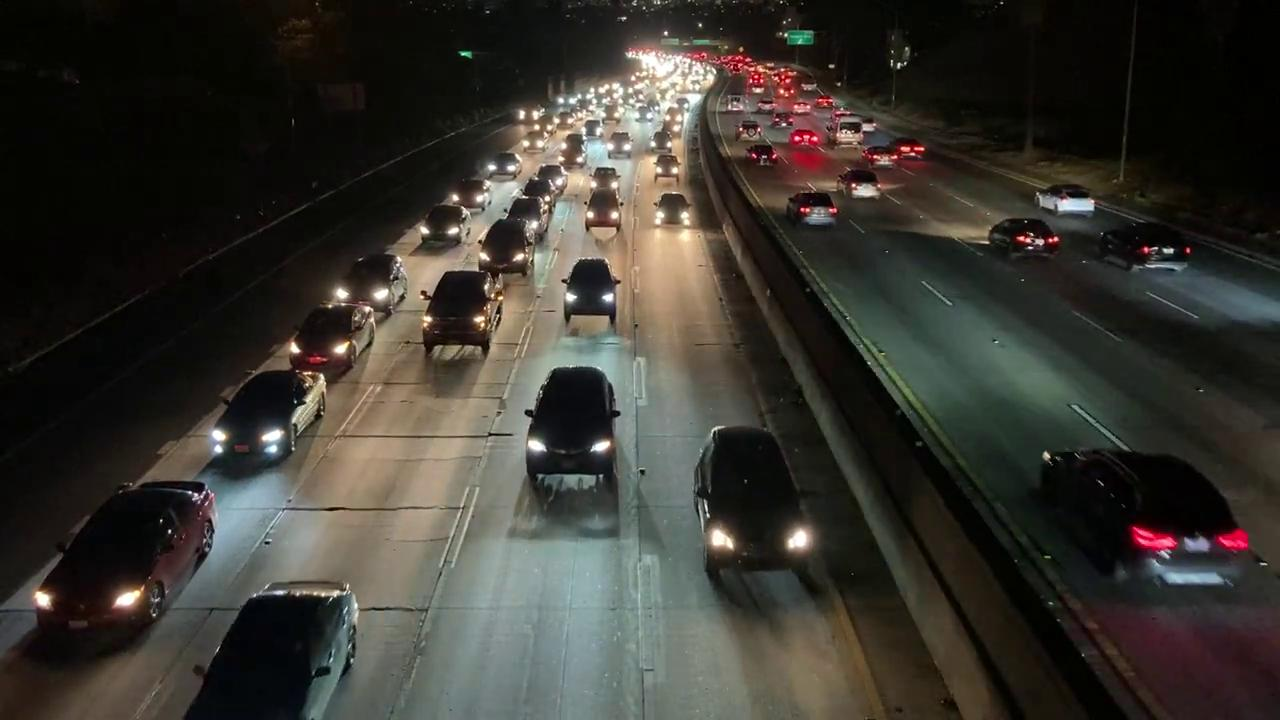bus: (825, 111, 865, 150)
car: (1040, 432, 1258, 596), (26, 482, 208, 634), (180, 578, 364, 714), (692, 422, 818, 586), (198, 364, 338, 474), (522, 358, 628, 492), (1093, 211, 1198, 275), (289, 304, 376, 378), (421, 270, 495, 352), (556, 256, 628, 336), (339, 253, 412, 311), (478, 221, 538, 280), (419, 197, 471, 250), (990, 218, 1059, 257), (583, 189, 629, 237), (1033, 184, 1093, 215), (504, 196, 557, 231), (789, 195, 839, 228), (656, 189, 692, 231), (453, 176, 495, 211), (835, 169, 879, 198), (486, 150, 530, 176), (584, 166, 627, 192), (650, 154, 684, 184), (893, 134, 927, 164), (748, 143, 785, 169), (562, 141, 591, 172), (516, 174, 560, 193), (862, 143, 896, 167), (608, 132, 636, 161), (788, 124, 816, 152), (739, 116, 761, 141)
